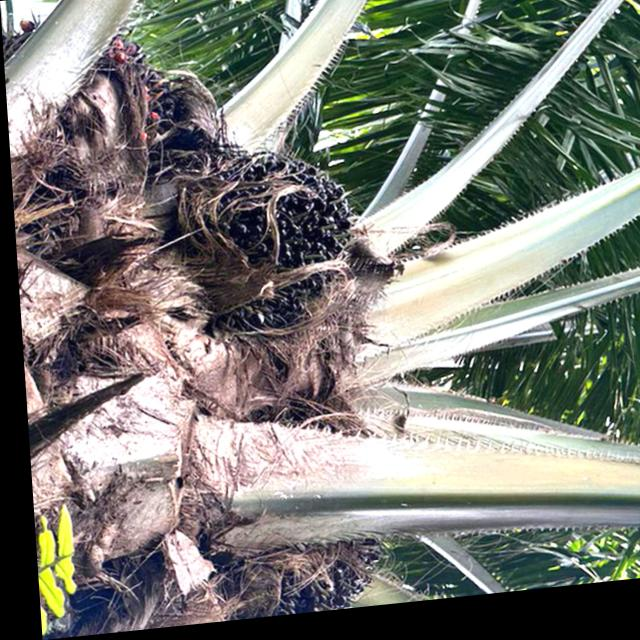unripe: (159, 135, 365, 357), (214, 522, 388, 625)
